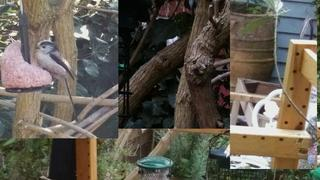long tailed tit: (35, 40, 78, 123)
